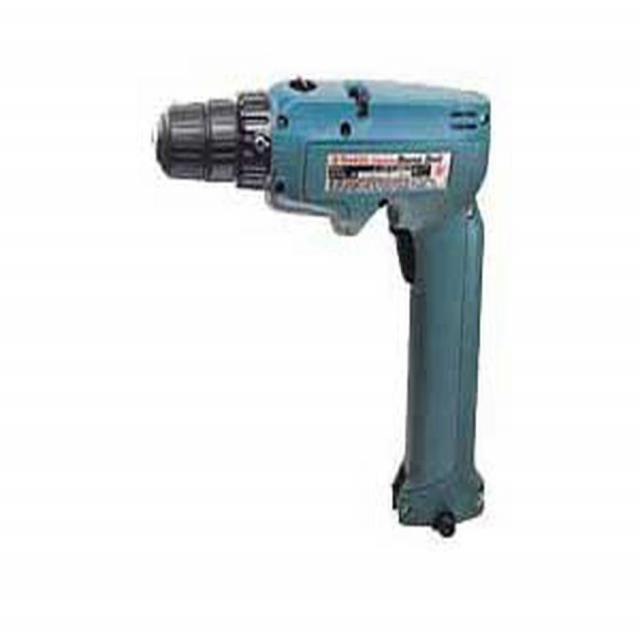drill: (150, 78, 491, 541)
